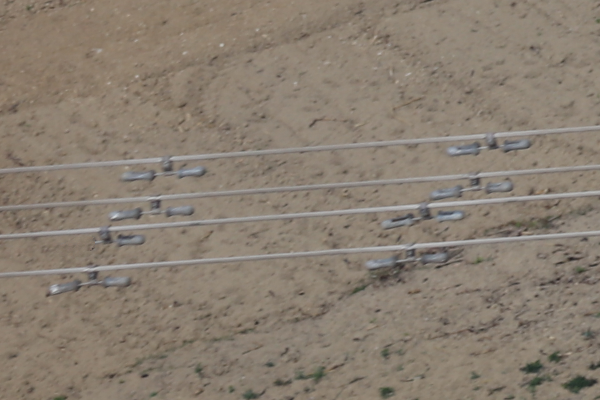damper: (43, 259, 135, 295), (428, 166, 515, 202), (362, 238, 450, 273), (106, 192, 196, 223), (444, 128, 533, 159), (119, 153, 207, 184), (381, 202, 466, 231)
damper_defect: (89, 225, 147, 249)
